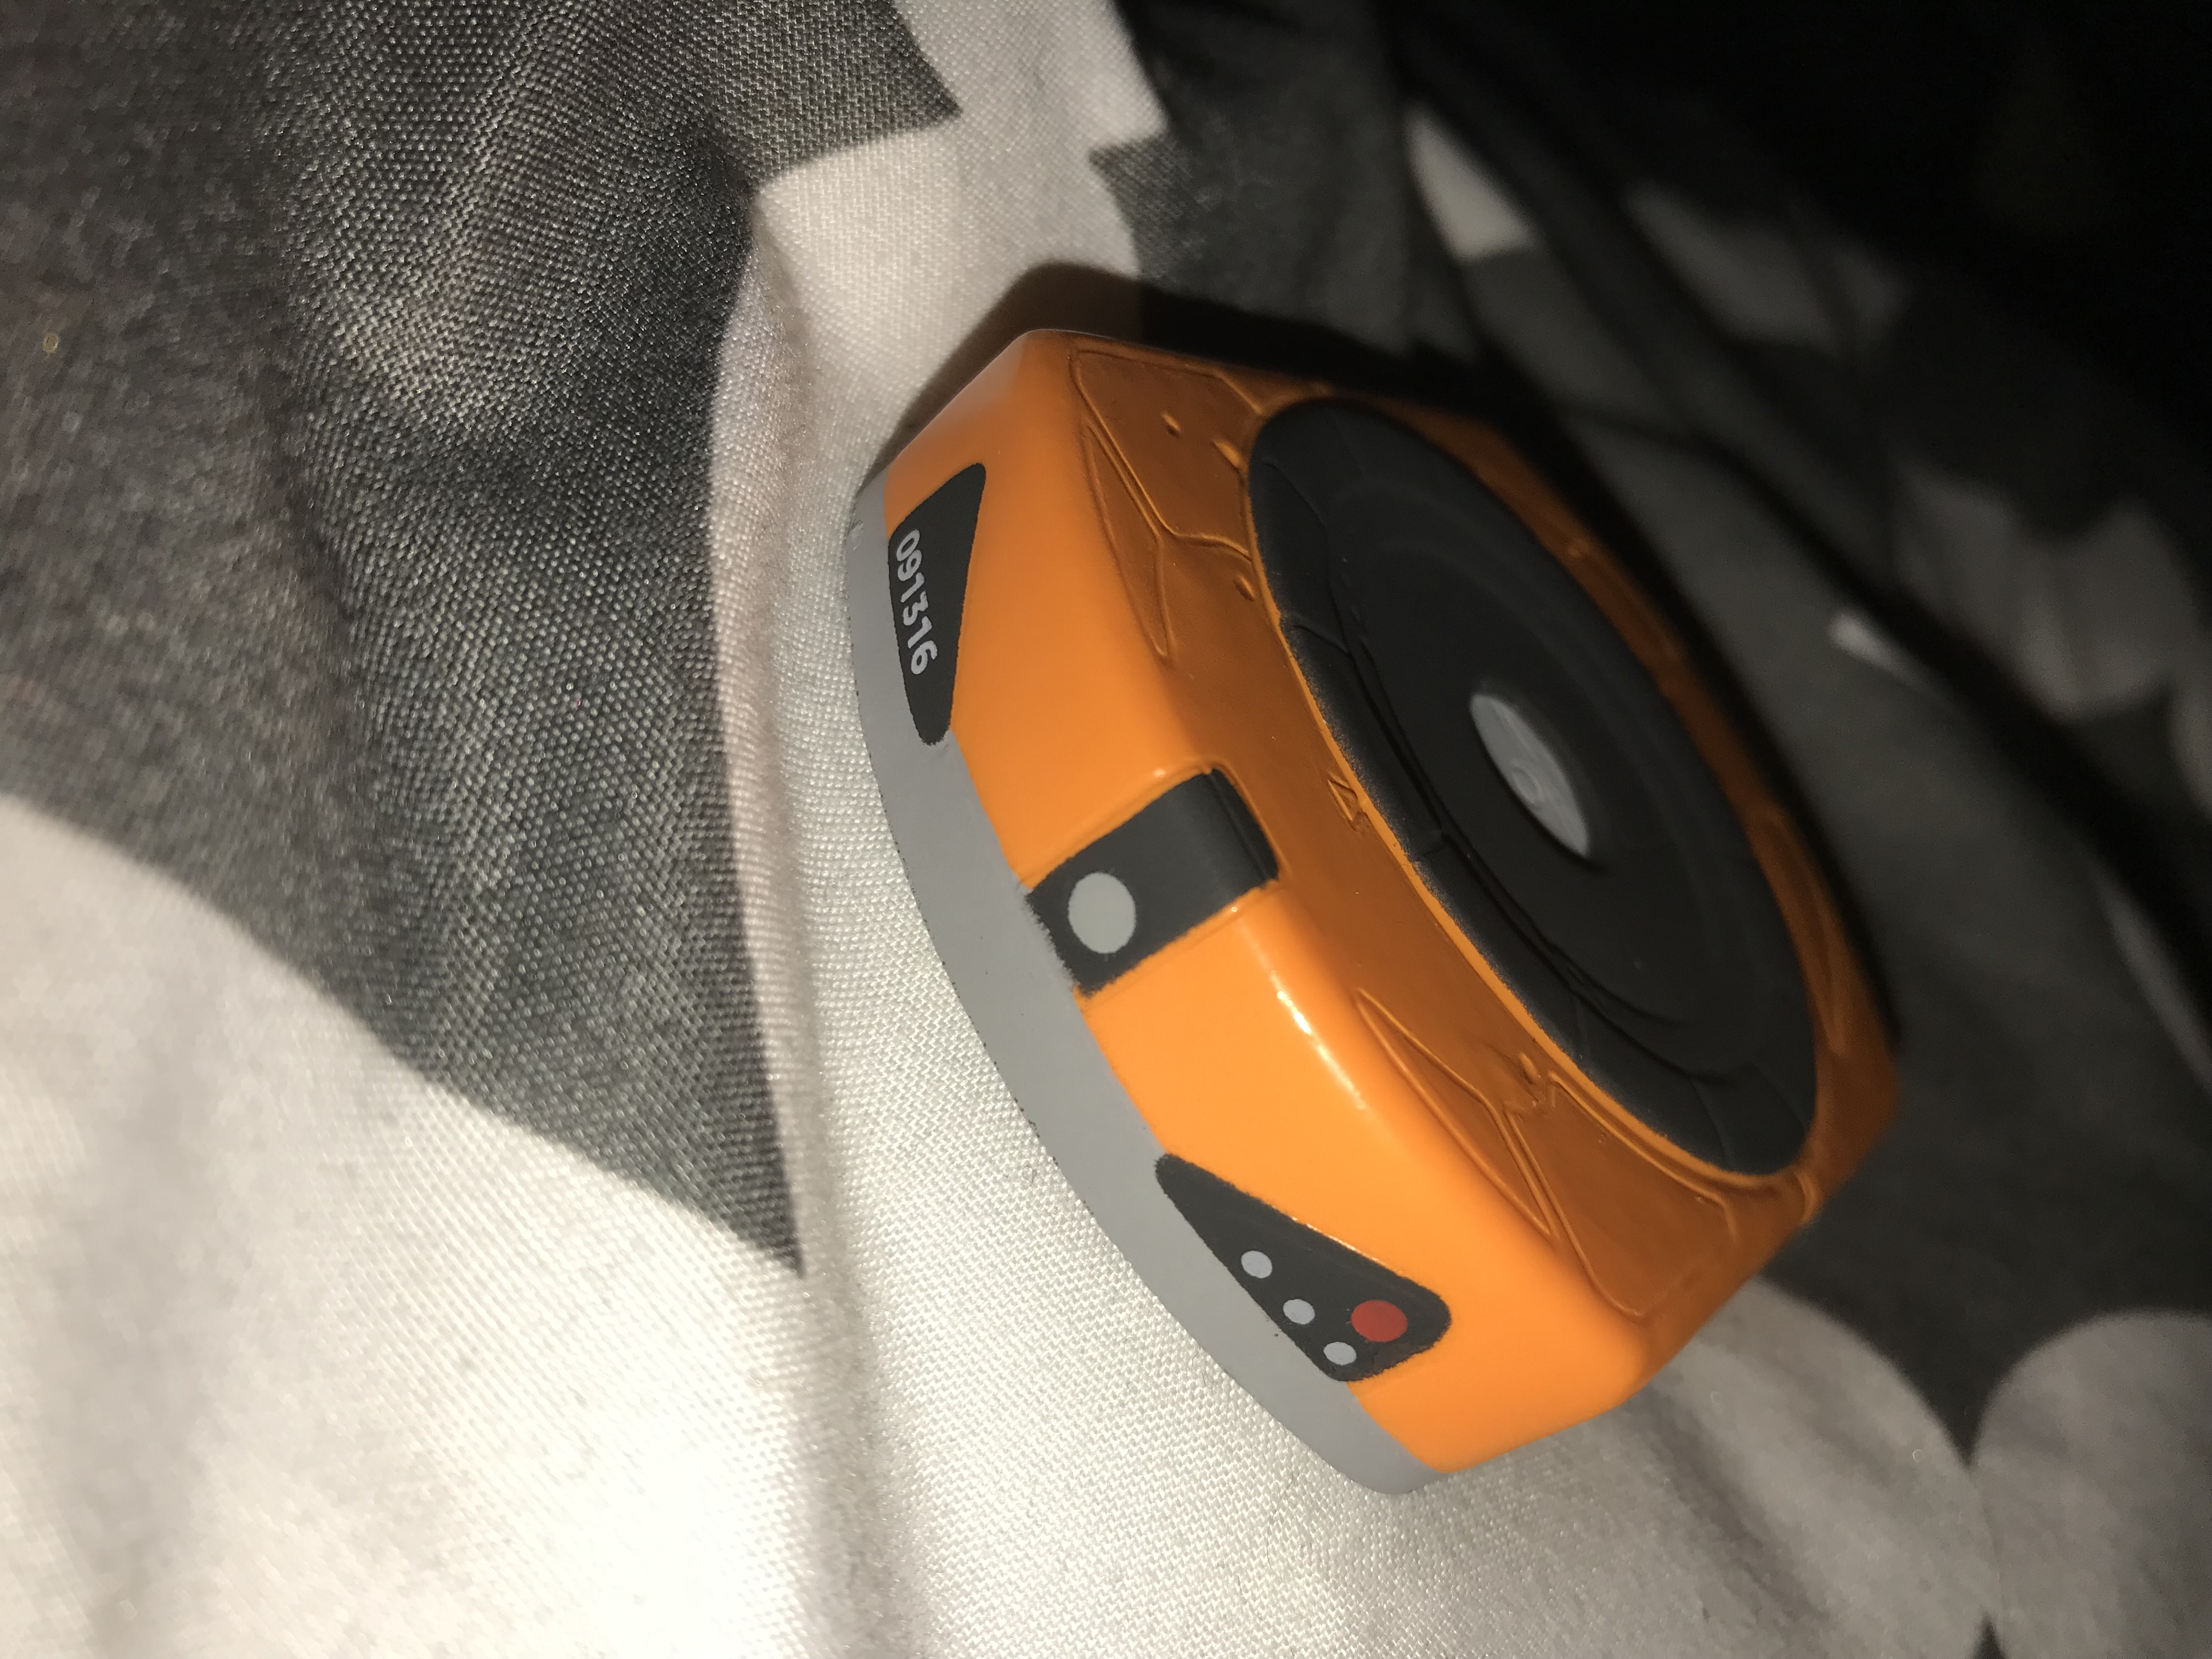amazon_bot: (808, 254, 1949, 1539)
